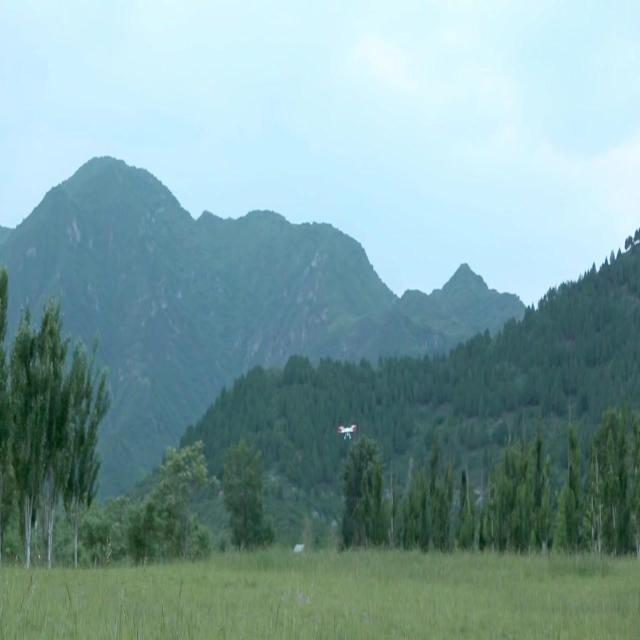drone: (337, 422, 359, 442)
